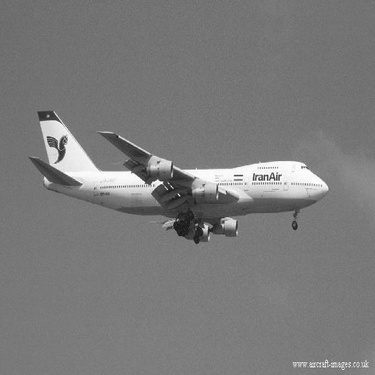airplane: (22, 96, 336, 250)
